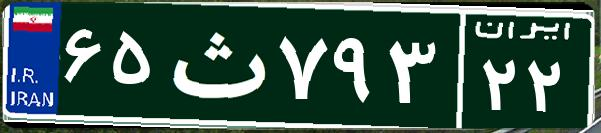2: (475, 38, 525, 113), (525, 38, 570, 115)
3: (385, 28, 445, 110)
5: (110, 28, 158, 105)
6: (57, 26, 110, 107)
7: (273, 28, 330, 110)
9: (330, 28, 385, 110)
ث: (158, 15, 273, 115)
